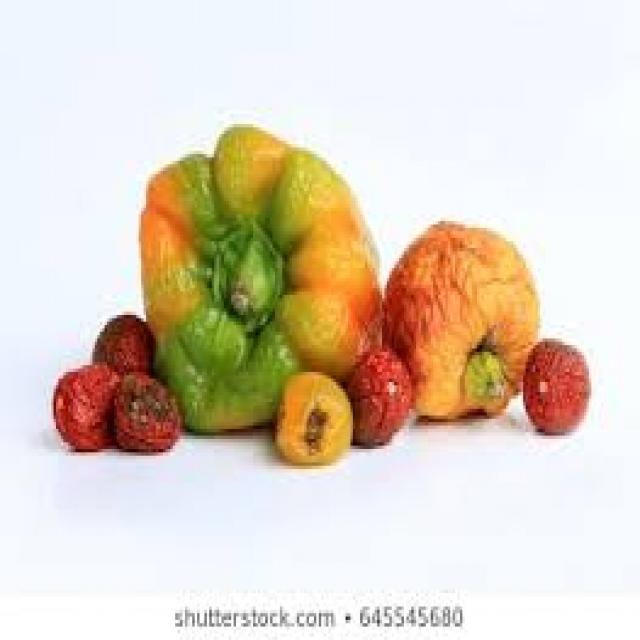organic waste: (139, 121, 382, 429), (382, 218, 538, 415), (272, 362, 350, 459), (521, 335, 589, 432), (346, 342, 406, 442), (54, 362, 119, 449), (112, 365, 178, 449), (92, 308, 148, 376)
